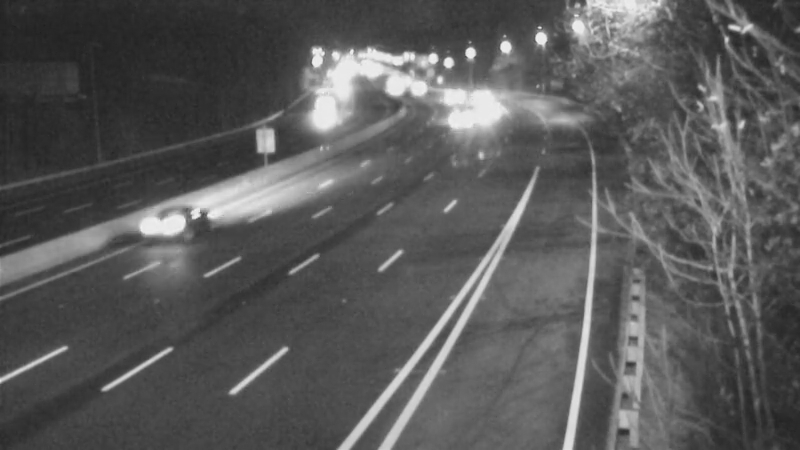vehicle: (132, 185, 212, 265), (396, 59, 446, 109), (370, 65, 420, 115), (427, 73, 477, 123), (455, 73, 505, 123), (461, 92, 511, 142), (433, 93, 483, 143), (296, 93, 346, 143)
